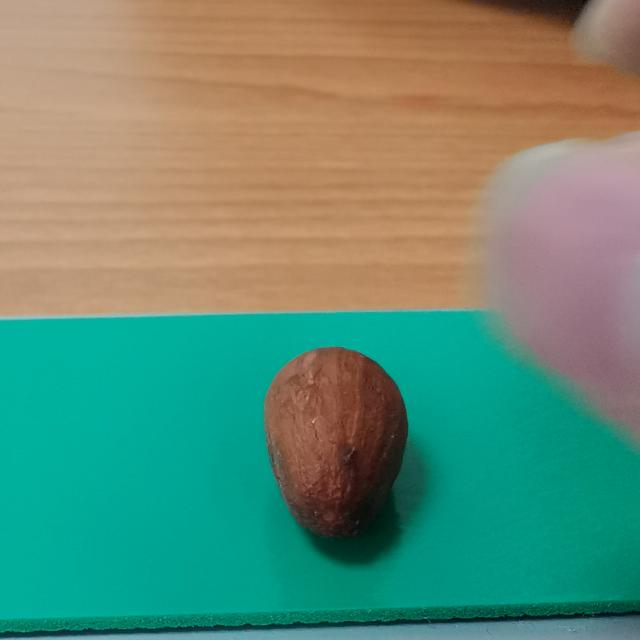Fine_cocoabeans: (181, 330, 493, 584)
